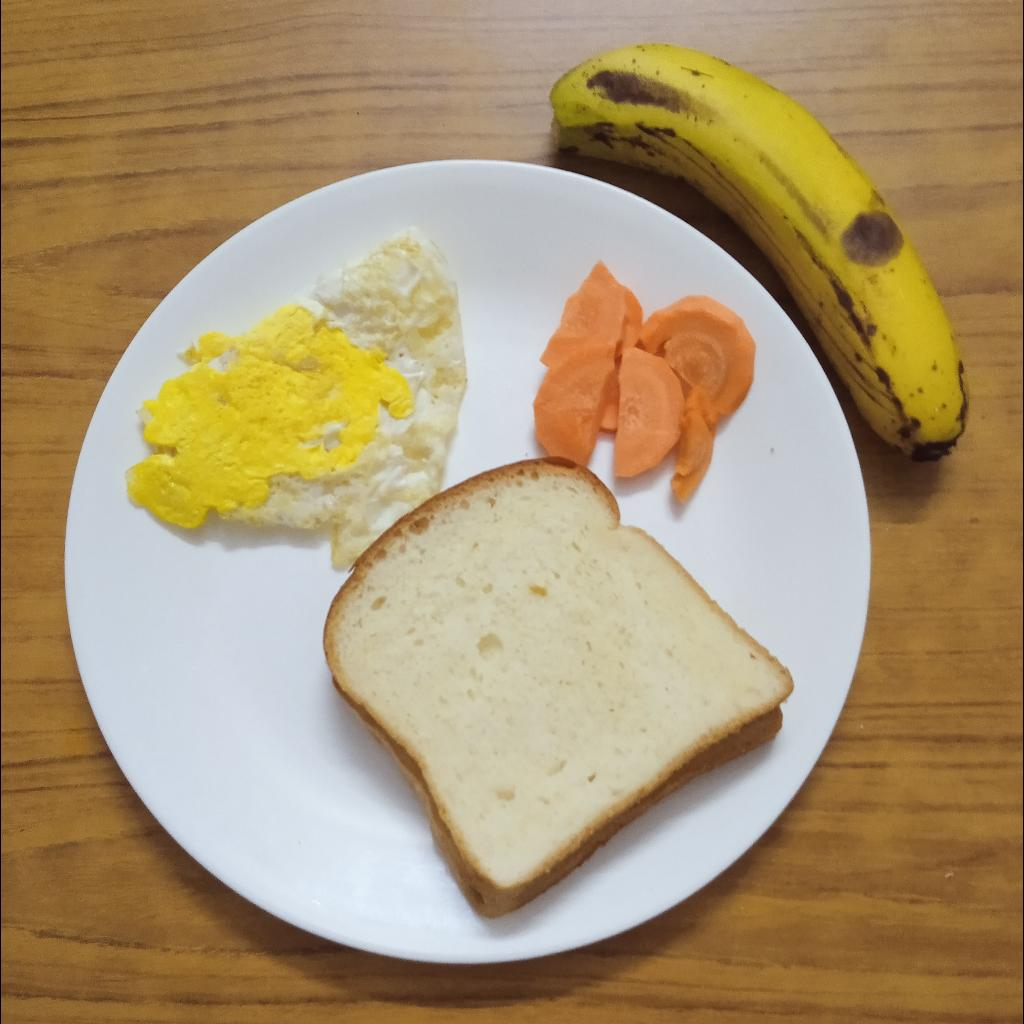banana: (549, 39, 973, 463)
bread: (316, 457, 796, 921)
carrot: (533, 259, 757, 503)
egg-poached: (122, 216, 469, 567)
